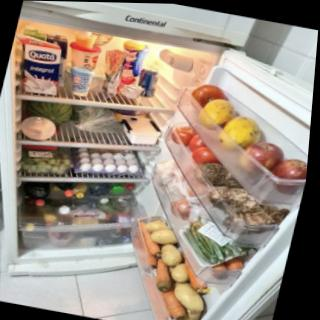Egg: (87, 162, 105, 173), (77, 163, 92, 173), (102, 164, 117, 174), (114, 163, 129, 173), (126, 164, 141, 174), (78, 155, 93, 165), (100, 157, 115, 167), (114, 156, 129, 166), (91, 157, 105, 167), (127, 158, 141, 168)
Milk: (2, 30, 71, 99)
beverage: (133, 63, 163, 101), (24, 183, 52, 210), (56, 180, 76, 203)
fruit: (272, 152, 308, 193), (19, 145, 73, 172), (243, 136, 289, 166), (201, 97, 238, 130), (227, 115, 259, 150)
